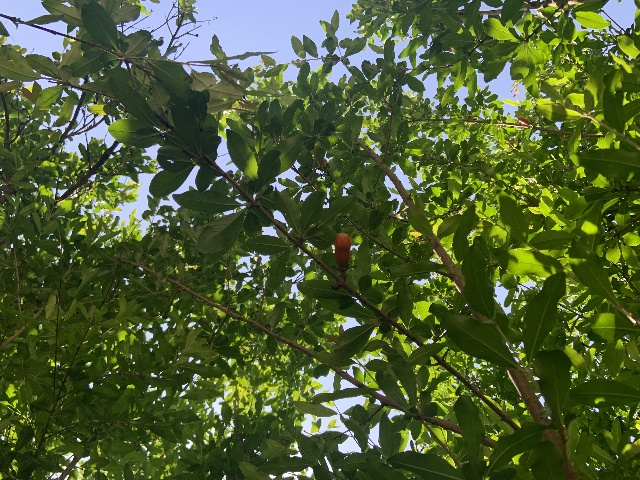bud: (334, 233, 351, 267), (517, 116, 529, 124)
